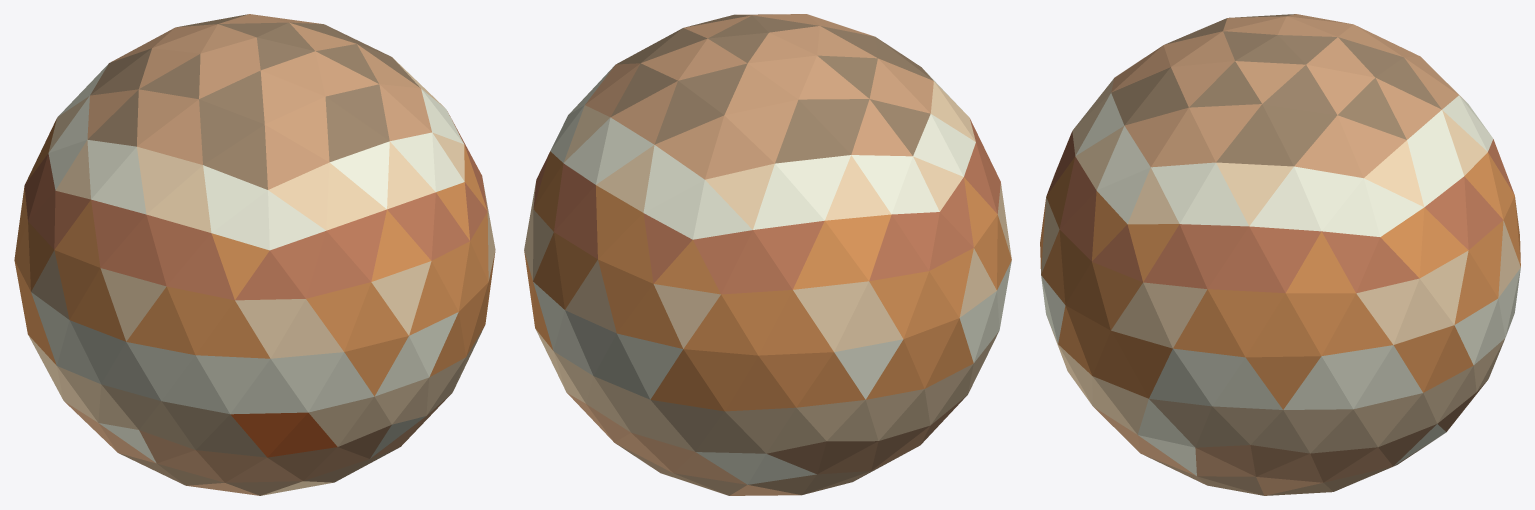
File: Jupiter.fbx
3 renders of one model, left to right at view 1: azimuth 30°, elevation 25°; view 2: azimuth 150°, elevation 25°; view 3: azimuth 270°, elevation 25°, orthographic.
Visible parts, largest first — view 1: Icosphere.002; view 2: Icosphere.002; view 3: Icosphere.002.
Boxes of the visible parts, left/top/right/bottom form: Icosphere.002: left=14, top=14, right=495, bottom=495; Icosphere.002: left=524, top=14, right=1011, bottom=495; Icosphere.002: left=1040, top=14, right=1520, bottom=495.
Size of the model in its own units: 24871 by 25131 by 24869.
